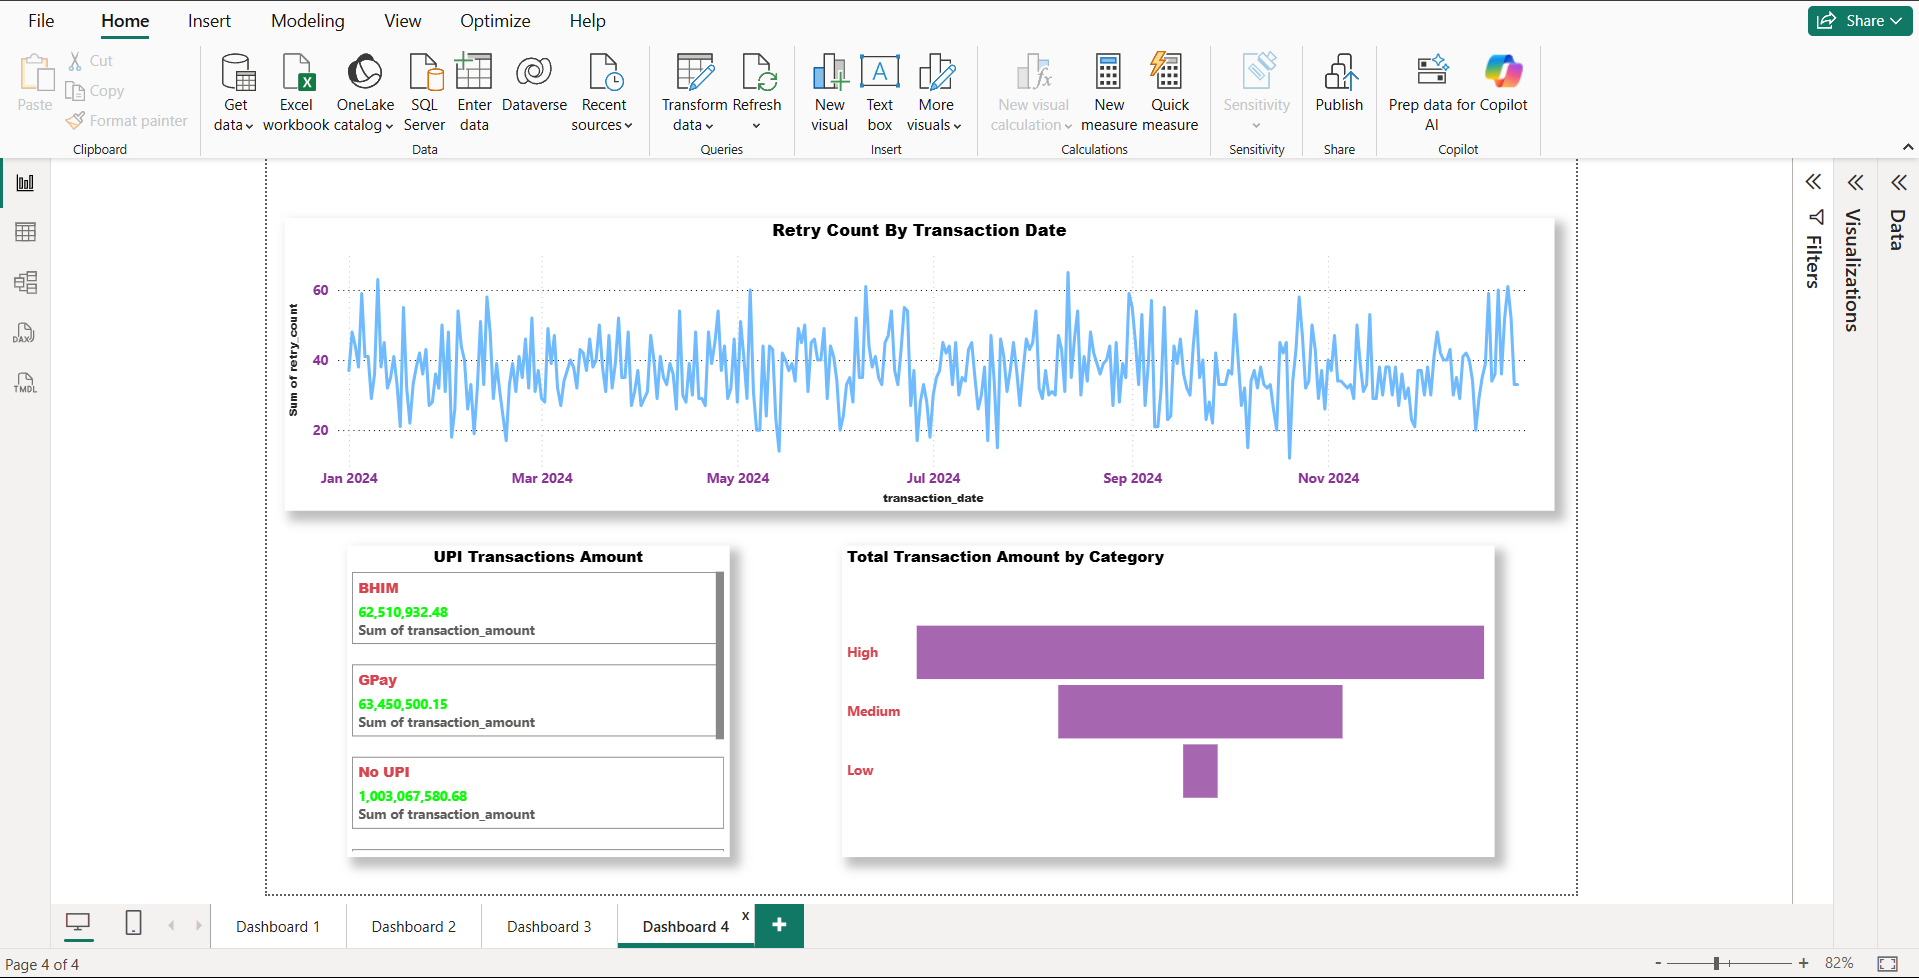

The dashboard page shown, as its layout file describes it:
{"tool":"powerbi","page":{"name":"Page 4","canvas":[1280,720],"ordinal":3},"visuals":[{"type":"lineChart","title":" Retry Count By Transaction Date","fields":{"Category":["digital_payment_processed (2).transaction_date"],"Y":["Sum(digital_payment_processed (2).retry_count)"]},"box":[17.1,58.7,1242.4,286.1],"z":0},{"type":"multiRowCard","title":"UPI Transactions Amount","fields":{"Values":["digital_payment_processed (2).upi_app","Sum(digital_payment_processed (2).transaction_amount)"]},"box":[78.3,379.1,374.2,304.5],"z":1},{"type":"funnel","title":"Total Transaction Amount by Category","fields":{"Category":["digital_payment_processed (2).transaction_amount_category"],"Y":["Sum(digital_payment_processed (2).transaction_amount)"]},"box":[562.5,379.1,638.3,304.5],"z":2}]}

Visuals, with their boxes on the page's 1280x720 design canvas (x1, y1, x2, y2). These are canvas units, not pixel positions in the 1919x978 screenshot, which may show the page scaled, cropped or inside an application window:
" Retry Count By Transaction Date" lineChart: box=[17, 59, 1260, 345]
"UPI Transactions Amount" multiRowCard: box=[78, 379, 452, 684]
"Total Transaction Amount by Category" funnel: box=[562, 379, 1201, 684]
